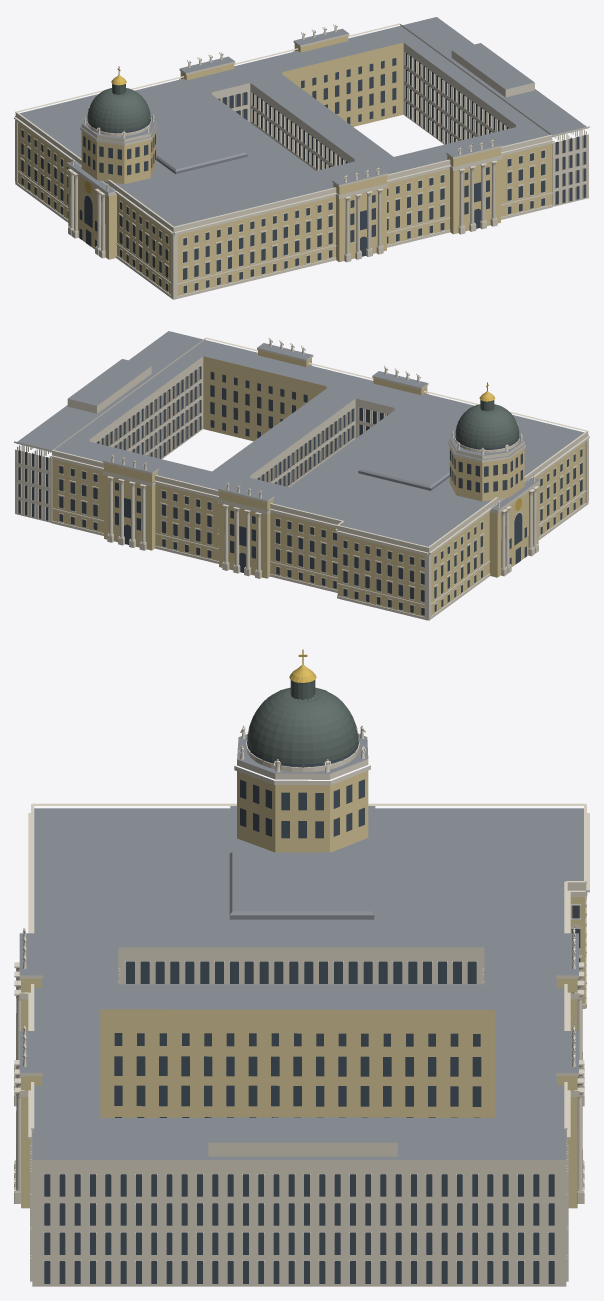
The model's file is berlin-humboldt-forum.detail.glb.
3 views of the same model, one above another, from view 1: azimuth 30°, elevation 25°; view 2: azimuth 150°, elevation 25°; view 3: azimuth 270°, elevation 25° (orthographic). The views are drawn at different scales.
Visible parts, largest first — view 1: Humboldt Forum; view 2: Humboldt Forum; view 3: Humboldt Forum.
Part boxes in pixels (x1=…): Humboldt Forum: x1=14, y1=17, x2=589, y2=299; Humboldt Forum: x1=14, y1=331, x2=589, y2=620; Humboldt Forum: x1=14, y1=649, x2=589, y2=1286.
Size of the model in its own units: 183 by 70 by 122.
